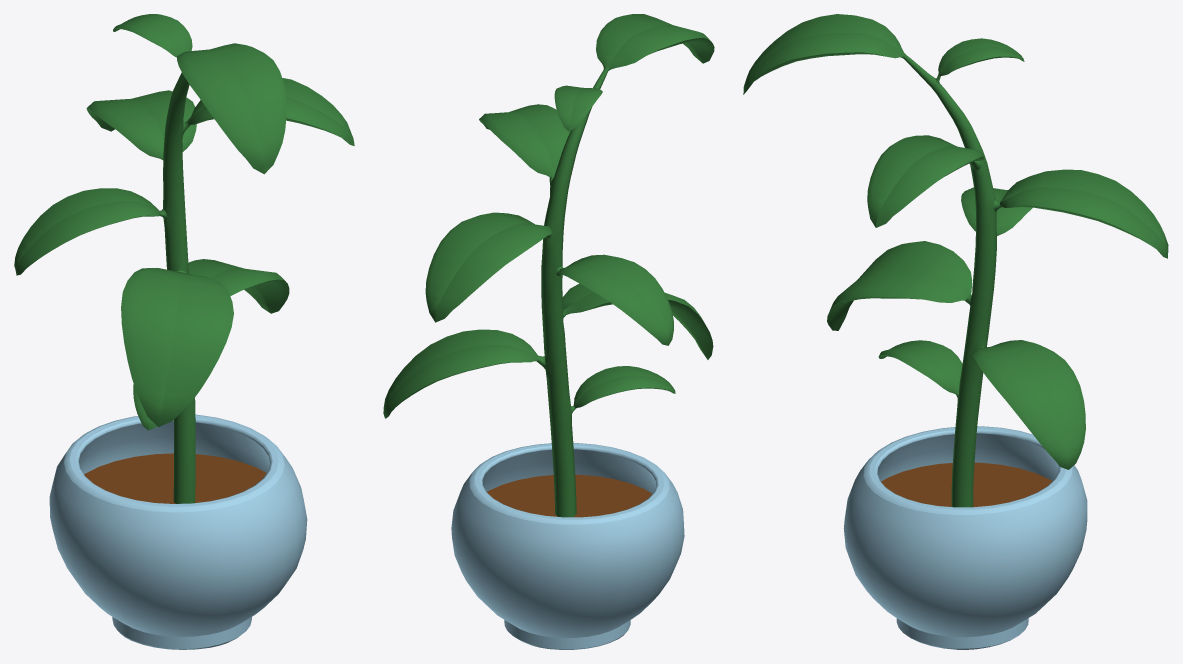
The model's file is Plant.glb.
The picture shows the model from 3 angles, left to right: view 1: azimuth 30°, elevation 25°; view 2: azimuth 150°, elevation 25°; view 3: azimuth 270°, elevation 25°; orthographic projection. The views are drawn at different scales.
Visible parts, largest first — view 1: Plant2; view 2: Plant2; view 3: Plant2.
Part boxes in pixels (x1,y1,x2,y2): Plant2: (14, 14, 354, 649); Plant2: (383, 14, 714, 649); Plant2: (743, 14, 1168, 649).
Bounding box in the file's own units: 0.706 × 1.43 × 0.9468.
Materials: 3 (2 with a texture image).
